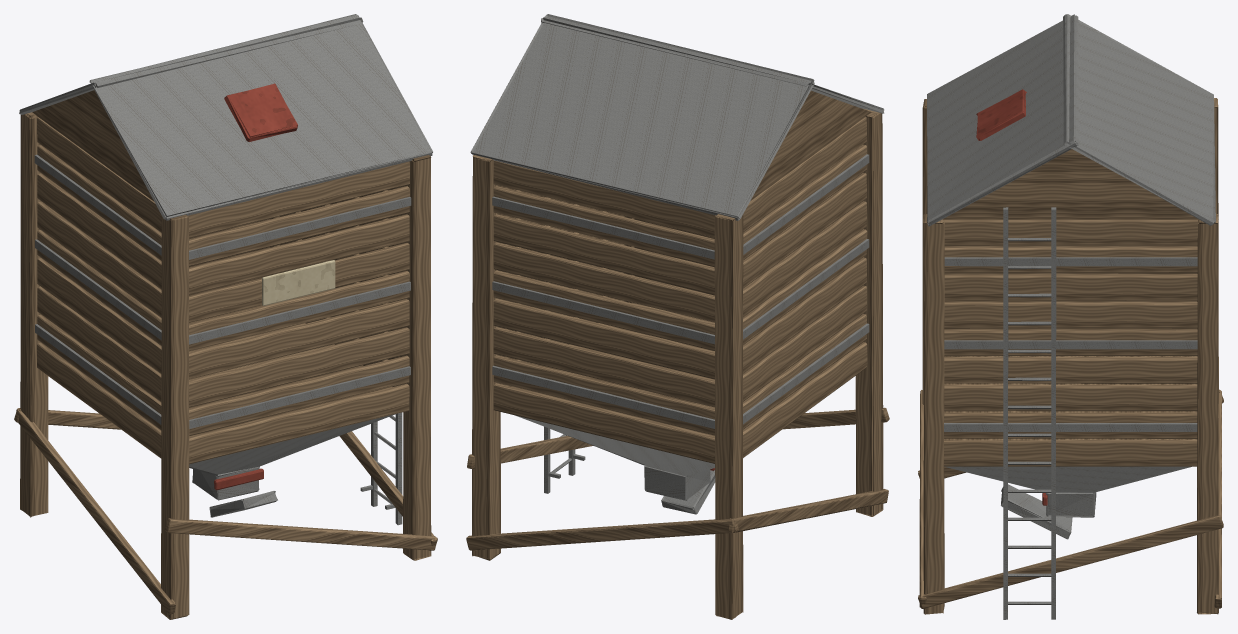
File: mill_bin_large.glb
The picture shows the model from 3 angles, left to right: view 1: azimuth 30°, elevation 25°; view 2: azimuth 150°, elevation 25°; view 3: azimuth 270°, elevation 25°; orthographic projection. The views are drawn at different scales.
Parts seen in each view (by area): view 1: MillBinLarge; view 2: MillBinLarge; view 3: MillBinLarge.
Boxes of the visible parts, x1,y1,x2,y2 form: MillBinLarge: (14,14,437,619); MillBinLarge: (466,14,889,619); MillBinLarge: (918,14,1223,619).
Bounding box in the file's own units: 2.56 × 4.29 × 2.5.
Materials: 4 (4 with a texture image).
